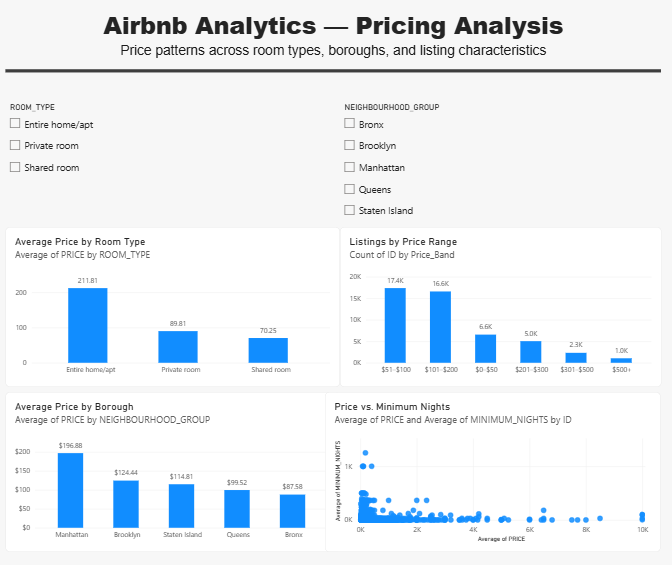

The dashboard page shown, as its layout file describes it:
{"tool":"powerbi","page":{"name":"Pricing Analysis","canvas":[1920,1080],"ordinal":1},"visuals":[{"type":"clusteredColumnChart","title":"Average Price by Room Type","fields":{"Category":["DIM_ROOM_TYPE.ROOM_TYPE"],"Y":["Avg(FACT_LISTINGS.PRICE)"]},"box":[322.5,405,585,280],"z":0},{"type":"clusteredColumnChart","title":"Average Price by Borough","fields":{"Category":["DIM_LOCATION.NEIGHBOURHOOD_GROUP"],"Y":["Avg(FACT_LISTINGS.PRICE)"]},"box":[322.5,692.5,585,280],"z":1000},{"type":"clusteredColumnChart","title":"Listings by Price Range","fields":{"Category":["FACT_LISTINGS.Price_Band"],"Y":["CountNonNull(FACT_LISTINGS.ID)"]},"box":[907.5,405,562.5,280],"z":2000},{"type":"scatterChart","title":"Price vs. Minimum Nights","fields":{"Category":["FACT_LISTINGS.ID"],"X":["Avg(FACT_LISTINGS.PRICE)"],"Y":["Avg(FACT_LISTINGS.MINIMUM_NIGHTS)"]},"box":[882.5,692.5,587.5,280],"z":3000},{"type":"slicer","fields":{"Values":["DIM_ROOM_TYPE.ROOM_TYPE"]},"box":[322.5,187.5,585,217.5],"z":4000},{"type":"slicer","fields":{"Values":["DIM_LOCATION.NEIGHBOURHOOD_GROUP"]},"box":[907.5,187.5,562.5,217.5],"z":5000},{"type":"shape","title":"Airbnb Analytics — Pricing Analysis","box":[323,21,1147.4,112.9],"z":6000}]}

Visuals, with their boxes on the page's 1920x1080 design canvas (x1, y1, x2, y2). These are canvas units, not pixel positions in the 672x565 screenshot, which may show the page scaled, cropped or inside an application window:
"Average Price by Room Type" clusteredColumnChart: pyautogui.locateOnScreen(322, 405, 908, 685)
"Average Price by Borough" clusteredColumnChart: pyautogui.locateOnScreen(322, 692, 908, 972)
"Listings by Price Range" clusteredColumnChart: pyautogui.locateOnScreen(908, 405, 1470, 685)
"Price vs. Minimum Nights" scatterChart: pyautogui.locateOnScreen(882, 692, 1470, 972)
slicer - DIM_ROOM_TYPE.ROOM_TYPE: pyautogui.locateOnScreen(322, 188, 908, 405)
slicer - DIM_LOCATION.NEIGHBOURHOOD_GROUP: pyautogui.locateOnScreen(908, 188, 1470, 405)
"Airbnb Analytics — Pricing Analysis" shape: pyautogui.locateOnScreen(323, 21, 1470, 134)
